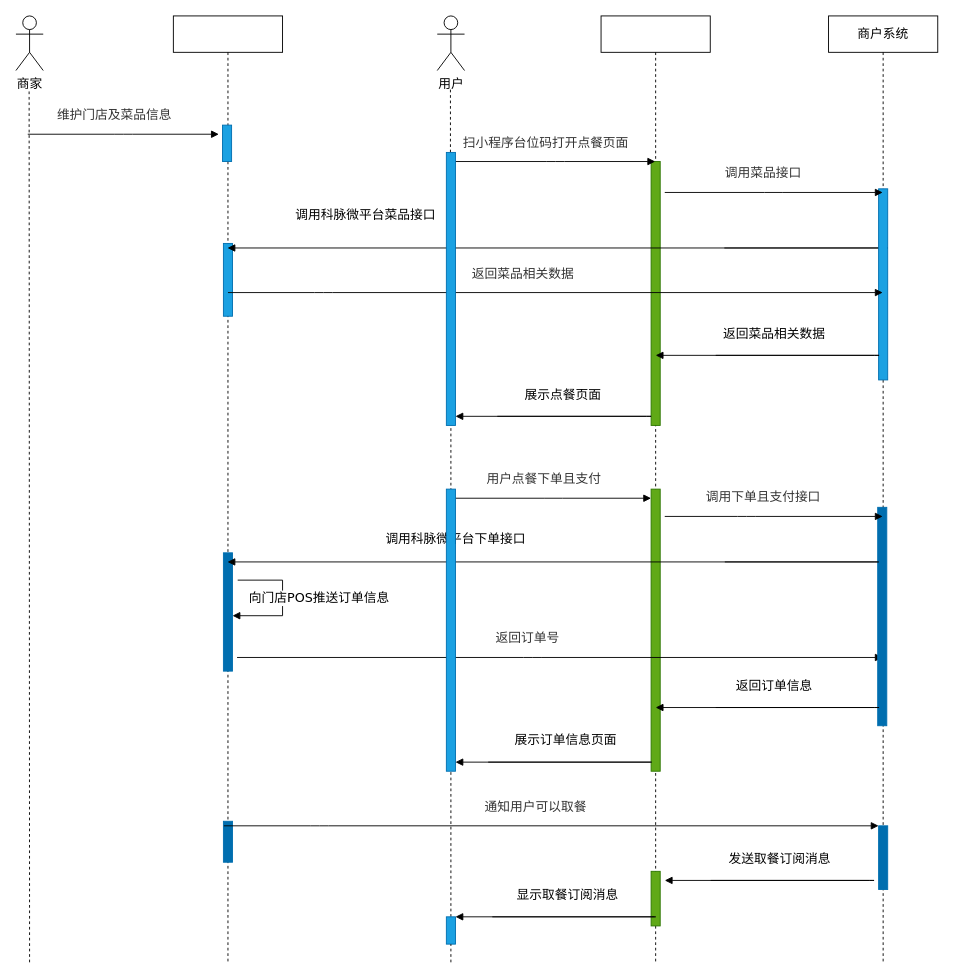
This 954x979 diagram has some shape labels left out. Here are the shapes that lost their labels. From the top down, the box of each, then its label:
(172, 15, 283, 962): 科脉微平台系统
(600, 15, 710, 962): 商家小程序
